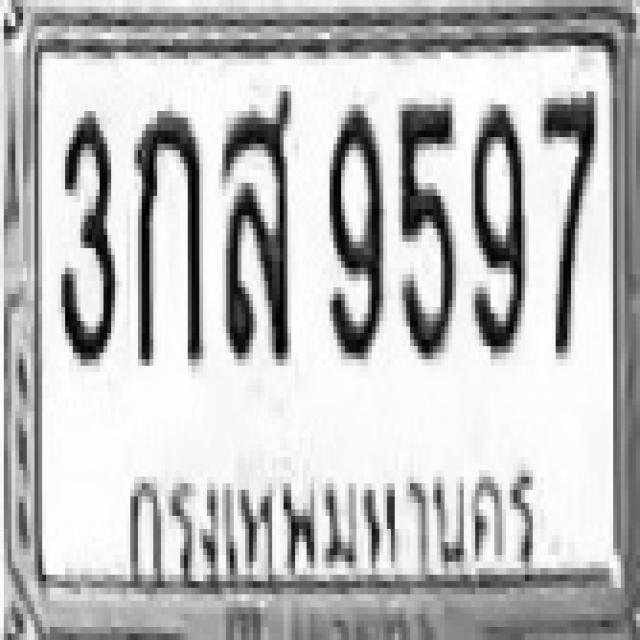10GorGai: (130, 105, 200, 359)
3: (56, 105, 113, 359)
49SorSuea: (218, 85, 288, 353)
5: (395, 98, 452, 353)
7: (538, 91, 596, 352)
9: (468, 98, 525, 353), (326, 98, 379, 353)
Bangkok: (115, 448, 542, 587)
